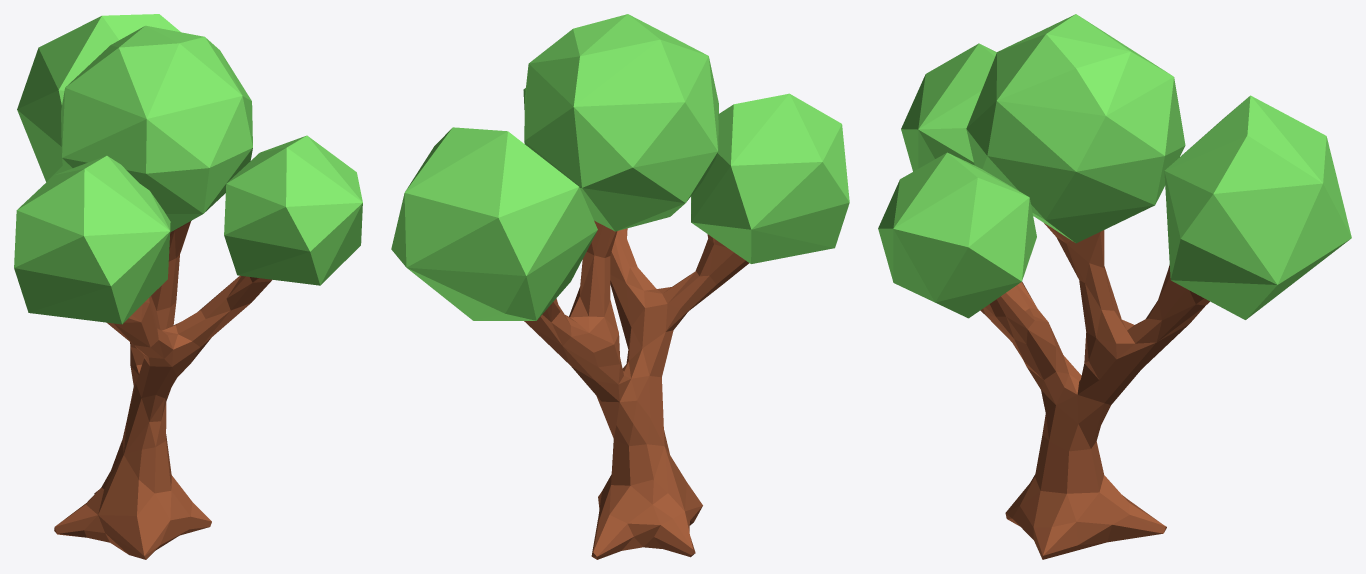
The model's file is Tree.fbx.
The picture shows the model from 3 angles, left to right: view 1: azimuth 30°, elevation 25°; view 2: azimuth 150°, elevation 25°; view 3: azimuth 270°, elevation 25°; orthographic projection. The views are drawn at different scales.
Visible parts, largest first — view 1: SM_Tree; view 2: SM_Tree; view 3: SM_Tree.
Boxes of the visible parts, x1,y1,x2,y2 form: SM_Tree: (14, 14, 362, 559); SM_Tree: (391, 14, 849, 559); SM_Tree: (878, 14, 1351, 559).
Size of what is drawn, in the model's own units: 389 by 554 by 460.
